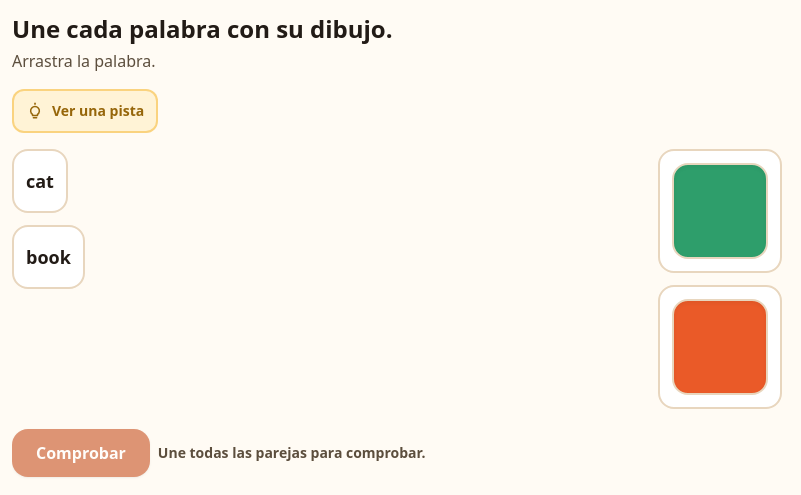
matching-pairs › permite arrastrar una palabra y soltarla sobre su dibujo
Press the mouse on the button "book" at coordinates (48, 257), box x1=12 y1=225 x2=85 y2=289
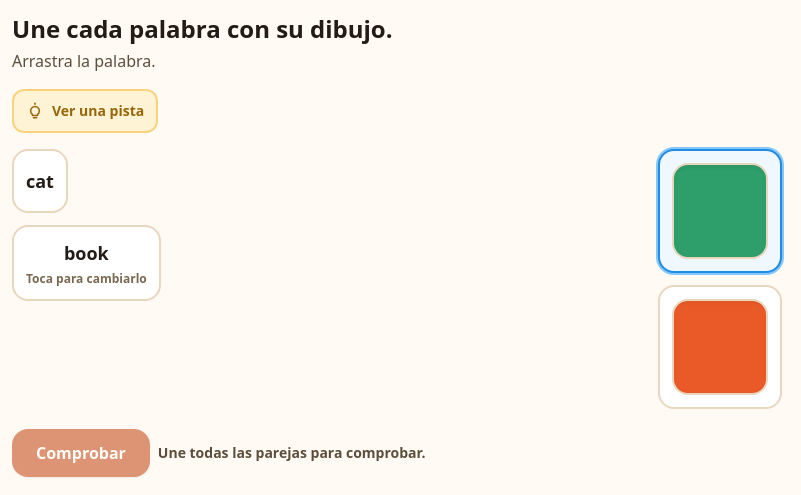
Result: the text "Toca para cambiarlo" is shown at x1=26 y1=271 x2=147 y2=287
